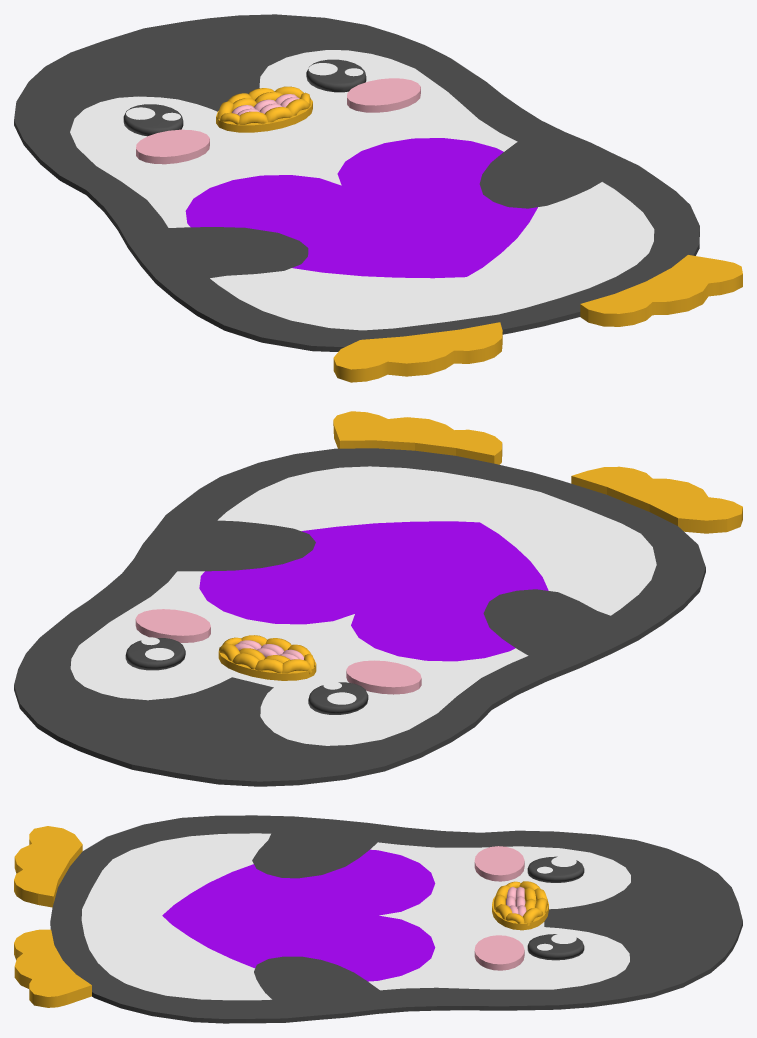
Rendered from penguin.glb.
3 views of the same model, one above another, from view 1: azimuth 30°, elevation 25°; view 2: azimuth 150°, elevation 25°; view 3: azimuth 270°, elevation 25° (orthographic). The views are drawn at different scales.
Parts seen in each view (by area): view 1: black, white, heart, legs, face; view 2: black, white, heart, legs, face; view 3: black, white, heart, face, legs.
Part boxes in pixels (x1=…): black: x1=14, y1=14, x2=699, y2=351; white: x1=70, y1=50, x2=654, y2=330; heart: x1=185, y1=138, x2=537, y2=278; legs: x1=333, y1=255, x2=742, y2=382; face: x1=123, y1=59, x2=420, y2=164; black: x1=14, y1=448, x2=705, y2=786; white: x1=70, y1=466, x2=656, y2=745; heart: x1=199, y1=521, x2=548, y2=661; legs: x1=333, y1=411, x2=742, y2=533; face: x1=125, y1=609, x2=421, y2=714; black: x1=50, y1=815, x2=742, y2=1023; white: x1=81, y1=833, x2=630, y2=1000; heart: x1=162, y1=849, x2=435, y2=981; face: x1=474, y1=846, x2=584, y2=970; legs: x1=14, y1=826, x2=91, y2=1007.
Size of the model in its own units: 9.74 by 0.5802 by 14.74.
